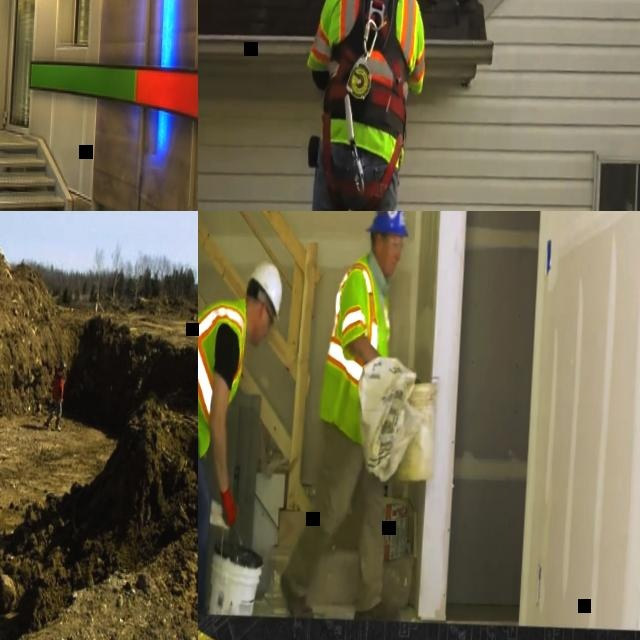Hardhat: (245, 260, 283, 324), (365, 211, 411, 239), (60, 362, 66, 368)
NO-Mask: (248, 307, 264, 348), (378, 249, 398, 278)
NO-Safety Vest: (51, 373, 65, 402)
Person: (277, 211, 420, 622), (198, 255, 283, 617), (291, 0, 431, 211), (44, 360, 67, 432)
Safety Vest: (308, 0, 429, 140), (319, 258, 393, 421), (198, 295, 245, 454)
